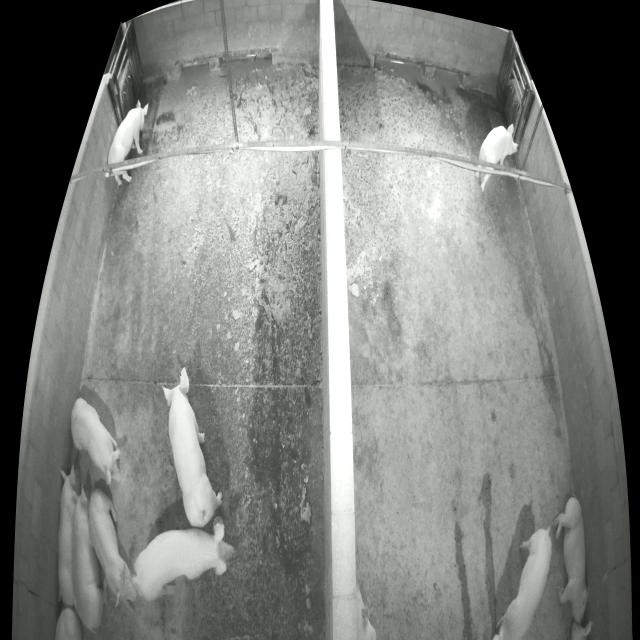pig: (162, 367, 222, 528), (132, 516, 236, 601), (491, 527, 552, 639), (89, 490, 136, 607), (71, 485, 107, 632), (72, 398, 121, 486), (555, 496, 588, 623), (109, 99, 149, 184), (58, 464, 79, 606), (475, 124, 518, 193), (356, 583, 376, 638), (56, 606, 82, 639)
